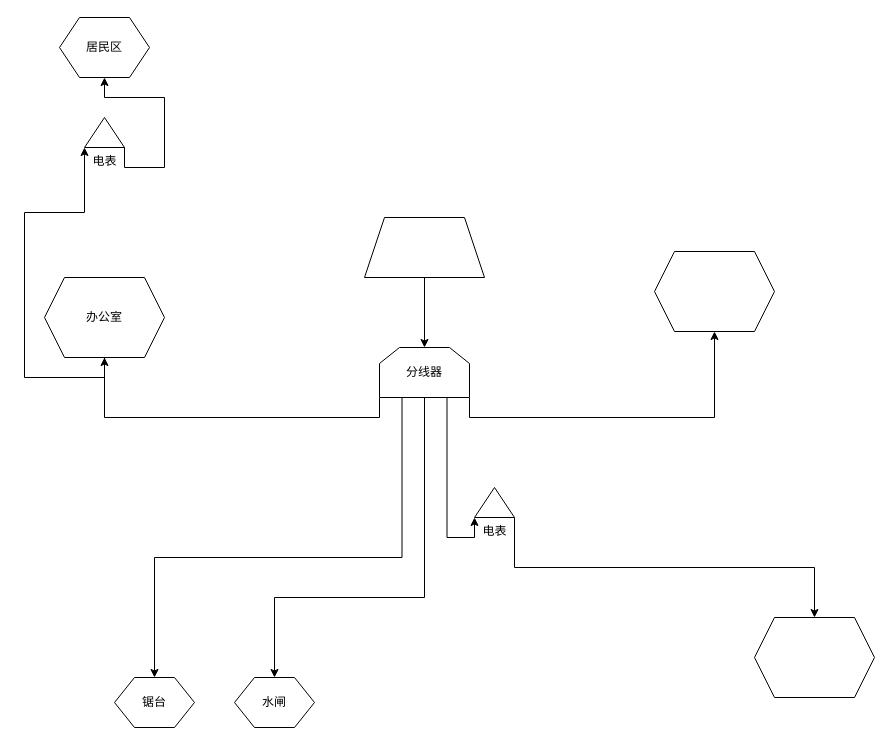
Some shapes in this 892 by 745 pixel diagram are drawn without their labels. The shapes that lost their labels are listed below. From the top down, each one's centre as x and y in pixels, then its label:
At [424,247]: "总闸".
At [714,291]: "锯台（Dante） 总空开".
At [814,657]: "猪场总空开".
